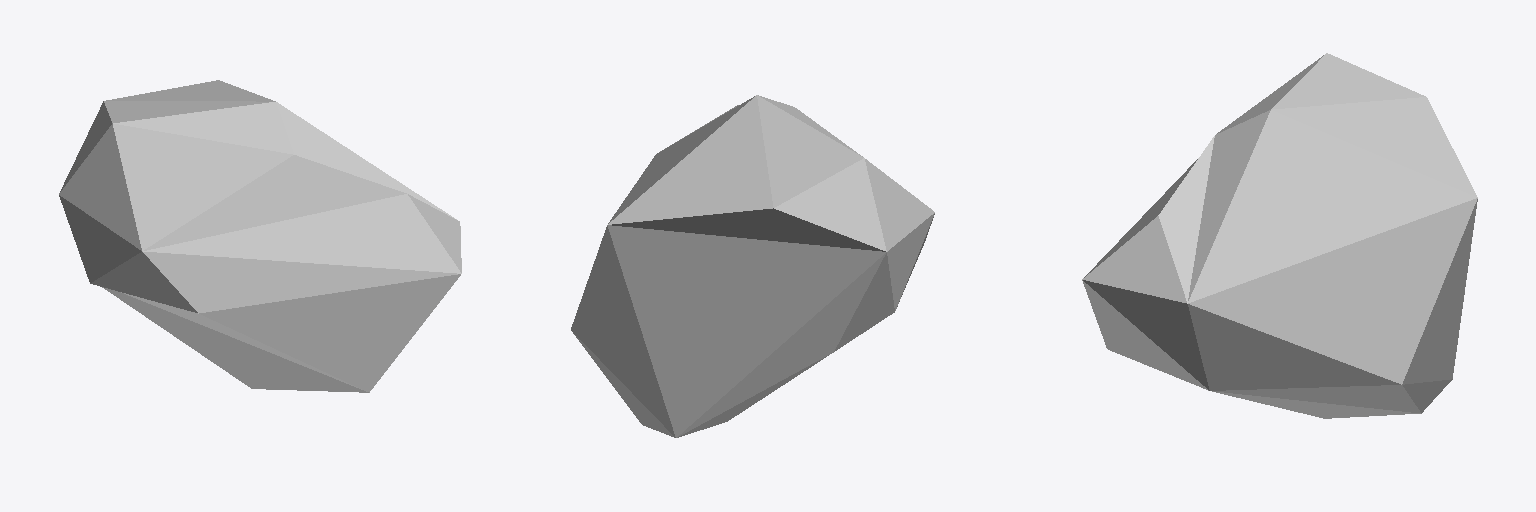
The model's file is Rock2Simple.obj.
3 views of the same model, side by side, from view 1: azimuth 30°, elevation 25°; view 2: azimuth 150°, elevation 25°; view 3: azimuth 270°, elevation 25° (orthographic).
Visible parts, largest first — view 1: Icosphere.002_Icosphere.025; view 2: Icosphere.002_Icosphere.025; view 3: Icosphere.002_Icosphere.025.
Boxes of the visible parts, x1=… form: Icosphere.002_Icosphere.025: x1=59, y1=80, x2=461, y2=392; Icosphere.002_Icosphere.025: x1=571, y1=95, x2=934, y2=437; Icosphere.002_Icosphere.025: x1=1082, y1=53, x2=1477, y2=418.
Bounding box in the file's own units: 8.2 × 7.63 × 8.9.